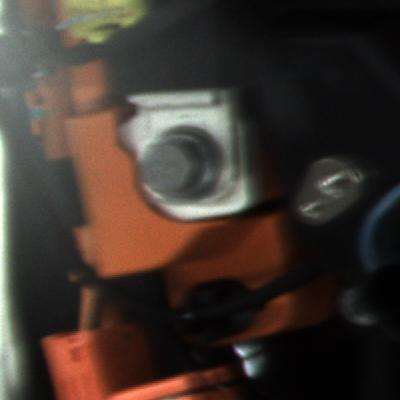nut_b: (127, 122, 232, 212)
